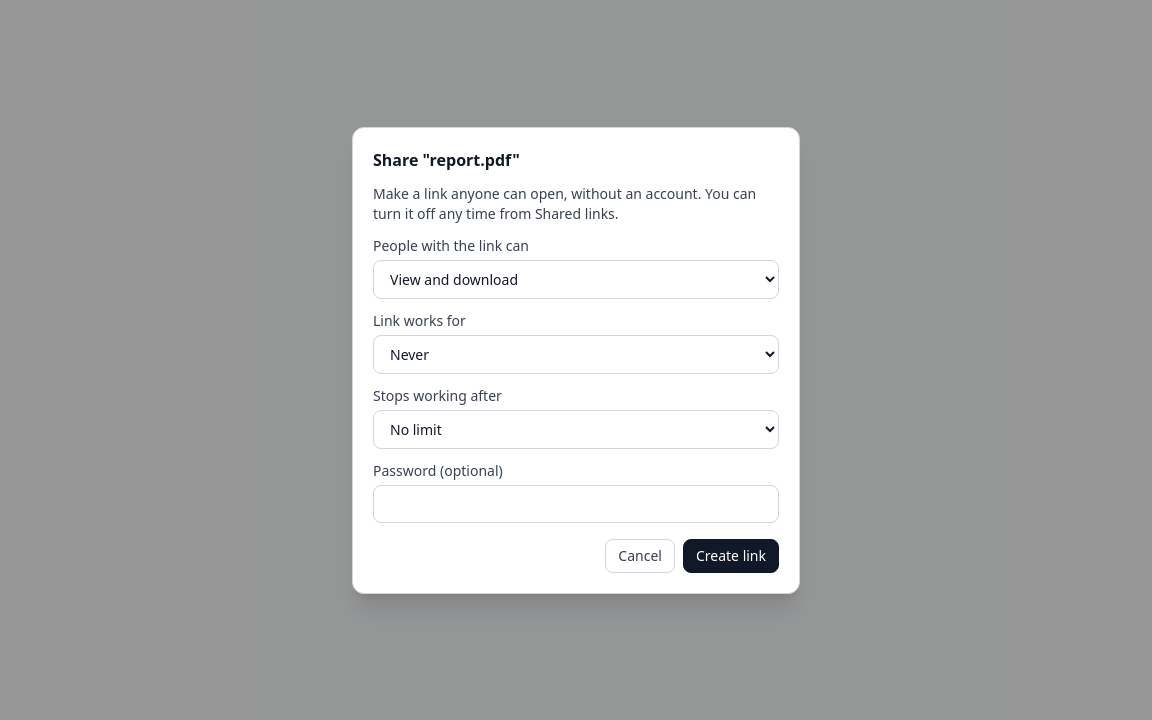
Test case: ShareDialog › creates a link with the chosen expiry and password, then shows it to copy
Select "1 day" in the dropdown labelled "Link works for" at (576, 354), box [373,334,779,374]
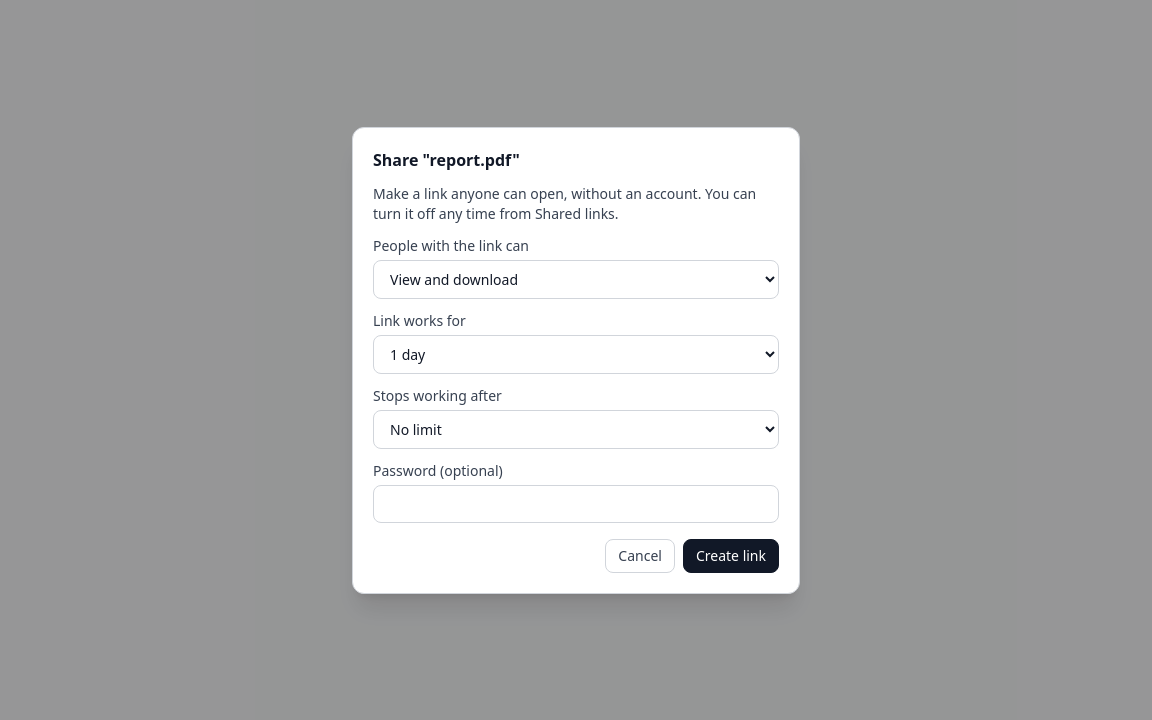
Type "hunter22" into the password field labelled "Password (optional)" at (576, 504), box [373,484,779,522]
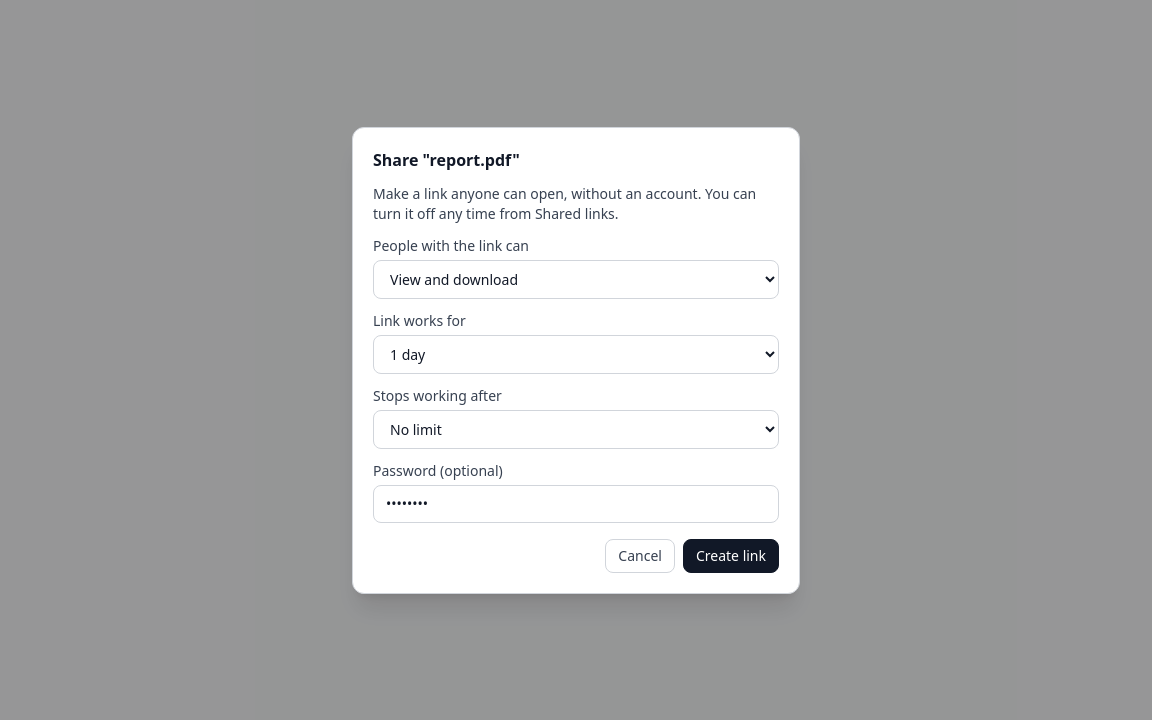
Click the button "Create link" at (731, 556), box [683,538,779,572]
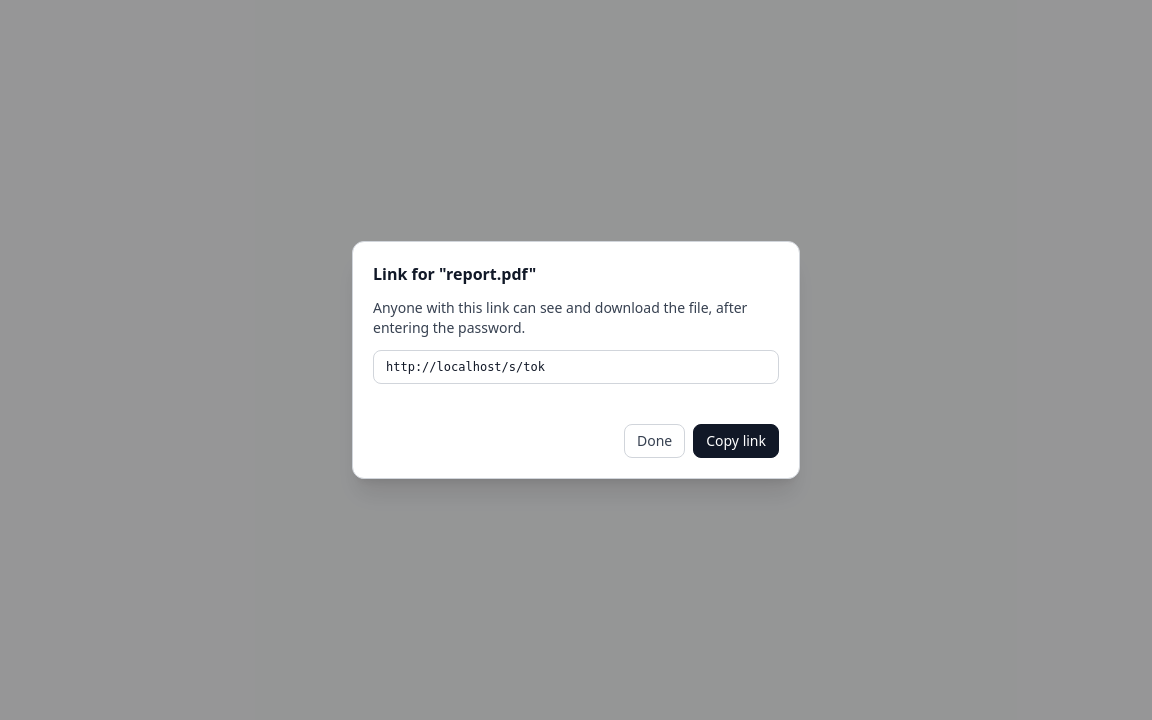
Now the button "Copy link" is shown, box [693,424,779,458]
